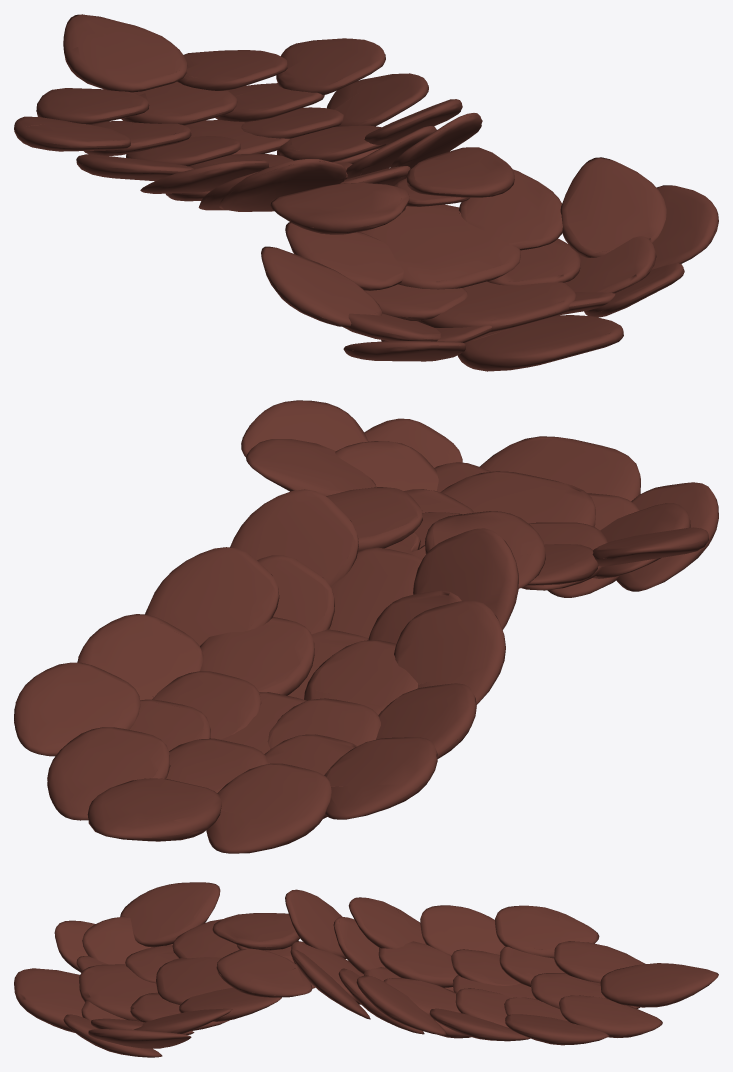
Rendered from sculpture_19.glb.
3 renders of one model, top to bottom at view 1: azimuth 30°, elevation 25°; view 2: azimuth 150°, elevation 25°; view 3: azimuth 270°, elevation 25°, orthographic. The views are drawn at different scales.
Visible parts, largest first — view 1: SCL_01_11; view 2: SCL_01_11; view 3: SCL_01_11.
Boxes of the visible parts, box(x1,y1,x2,y2) form: SCL_01_11: box(14, 14, 718, 371); SCL_01_11: box(14, 400, 718, 853); SCL_01_11: box(14, 882, 718, 1057).
Bounding box in the file's own units: 0.2922 × 0.0816 × 0.5707.
